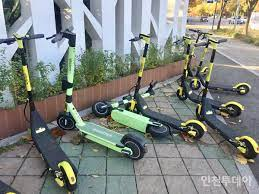fallin_kick: (93, 79, 167, 134)
kick_board: (1, 33, 76, 190), (194, 38, 259, 157)
kick_body: (206, 82, 234, 91)
kick_handler: (45, 25, 77, 45), (1, 34, 43, 47), (193, 38, 227, 48), (131, 34, 152, 44), (188, 28, 212, 36)
kick_neck: (20, 48, 37, 110), (66, 46, 76, 111), (137, 46, 146, 95), (184, 45, 192, 86), (182, 49, 190, 82)
kick_wheel: (123, 133, 147, 160), (56, 162, 77, 191), (238, 136, 259, 158), (185, 119, 203, 140), (57, 113, 75, 130), (226, 102, 241, 117), (237, 82, 250, 95), (177, 88, 187, 99), (192, 80, 201, 89)
